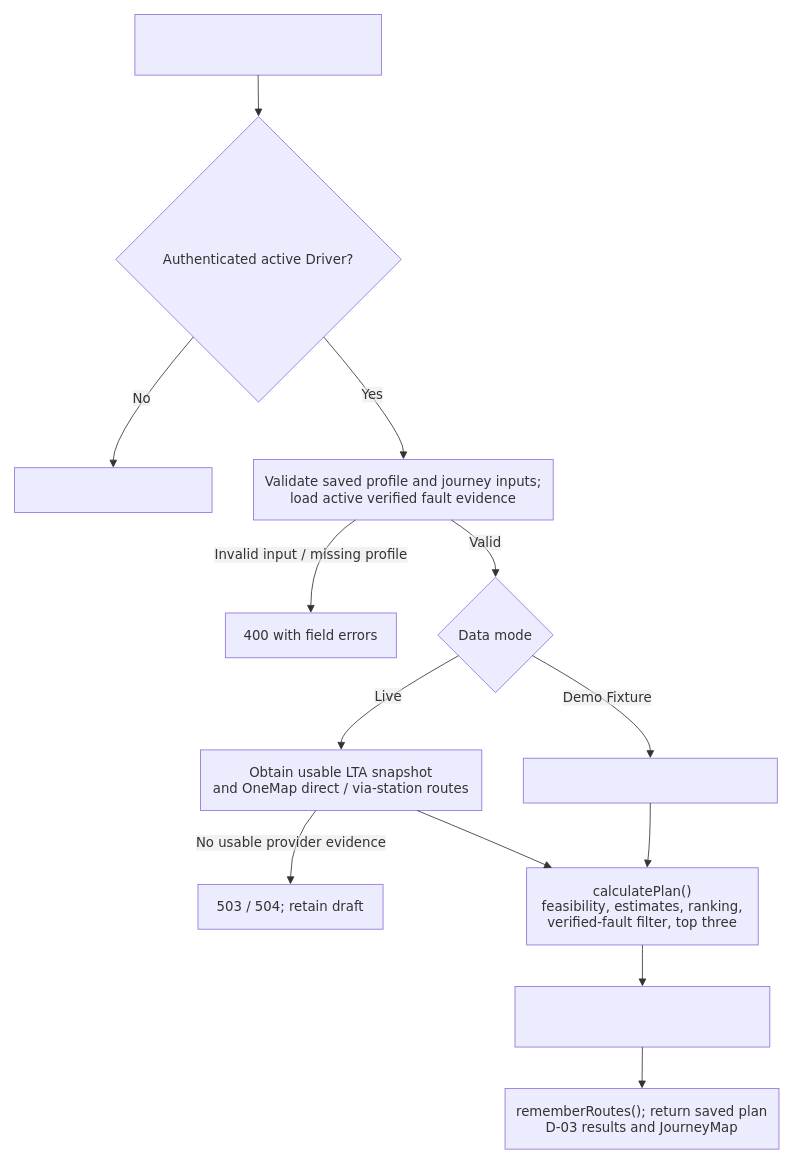
Image size: 793x1164. Some labels were removed from this diagram. Each missing label, with the centre of its shape:
401 / 403; nothing saved: pixel 113 490
Create labelled synthetic scenario: pixel 649 780
POST /api/app plan.create with input and mode: pixel 257 44
save_plan_version(CREATE) atomically save plan and version 1: pixel 642 1016
